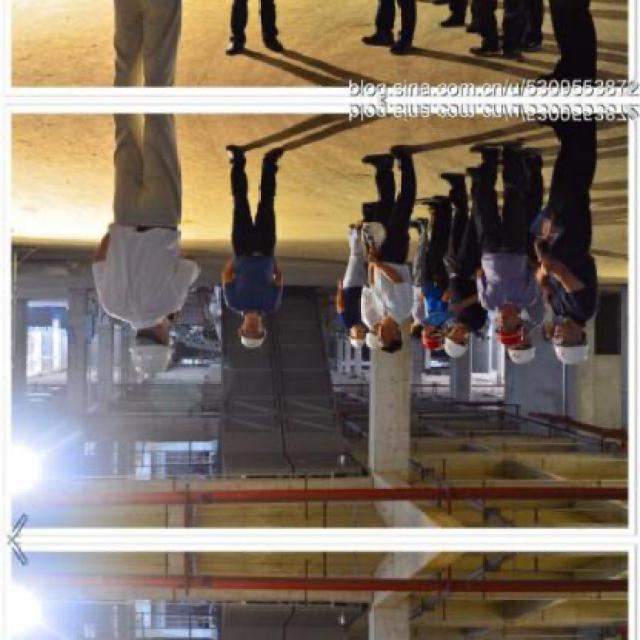con casco: (116, 300, 184, 378), (547, 311, 601, 375), (435, 312, 486, 364), (485, 296, 534, 346)
sin casco: (356, 300, 422, 364)
